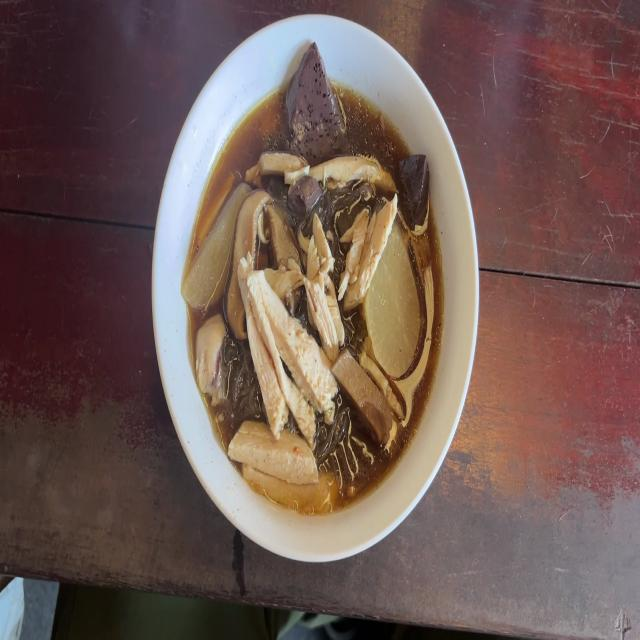boiled_chicken_blood_jelly: (286, 50, 340, 146), (283, 173, 324, 222), (398, 150, 428, 208)
chicken_shredded: (238, 259, 335, 510), (250, 153, 394, 189)
daikon_radish: (377, 237, 419, 384), (188, 183, 236, 306)
noodle: (185, 42, 446, 510)
